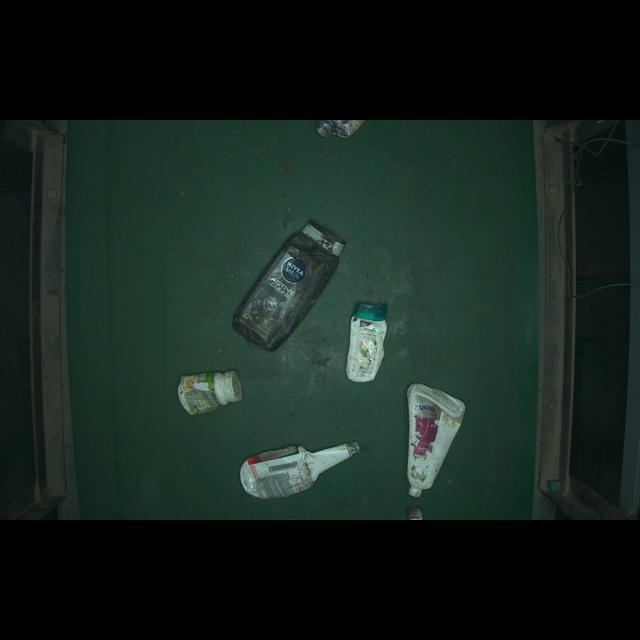mix PET: (229, 204, 346, 362), (228, 436, 363, 501), (394, 382, 467, 499), (337, 290, 399, 395), (170, 356, 249, 418)
